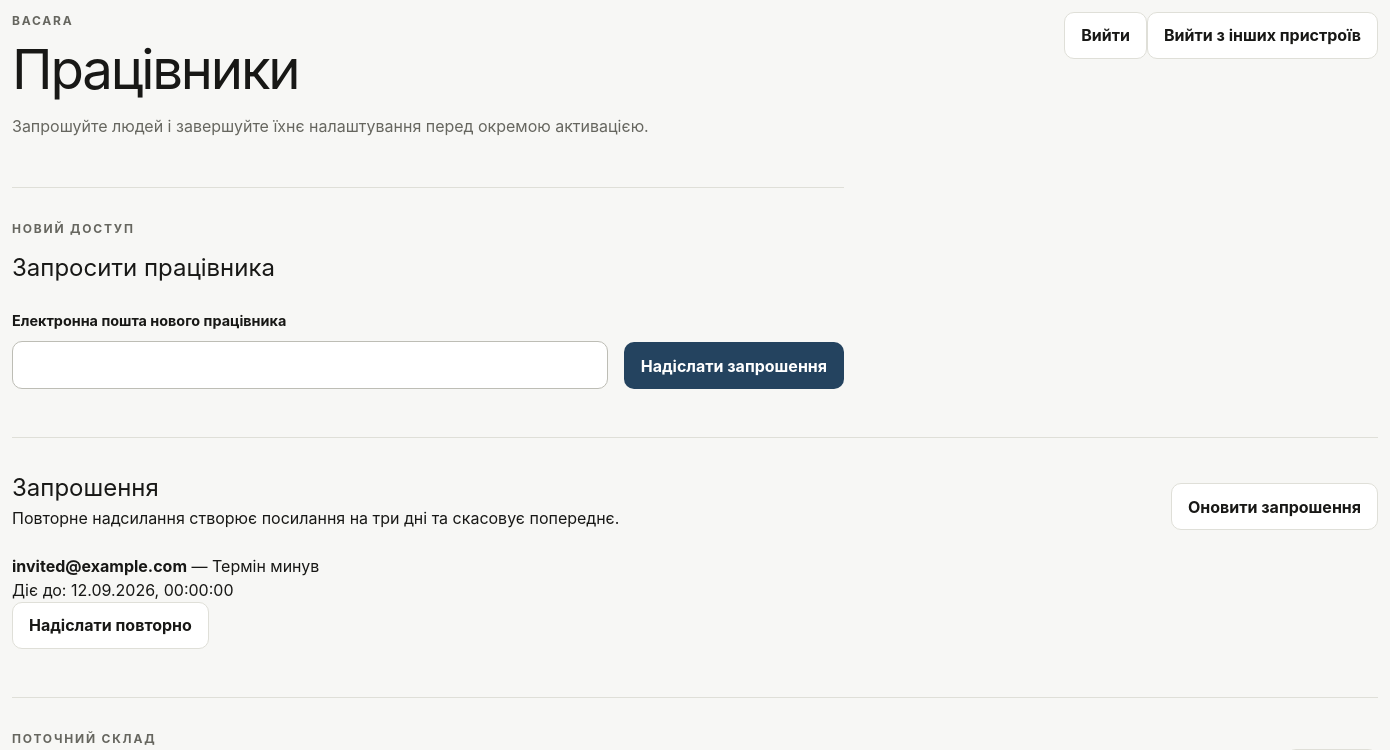
Test: reuses the idempotency key after an uncertain network failure
The width and height of the screenshot is (1390, 750).
Click the button "Надіслати повторно" at (110, 626), box [12,602,209,649]
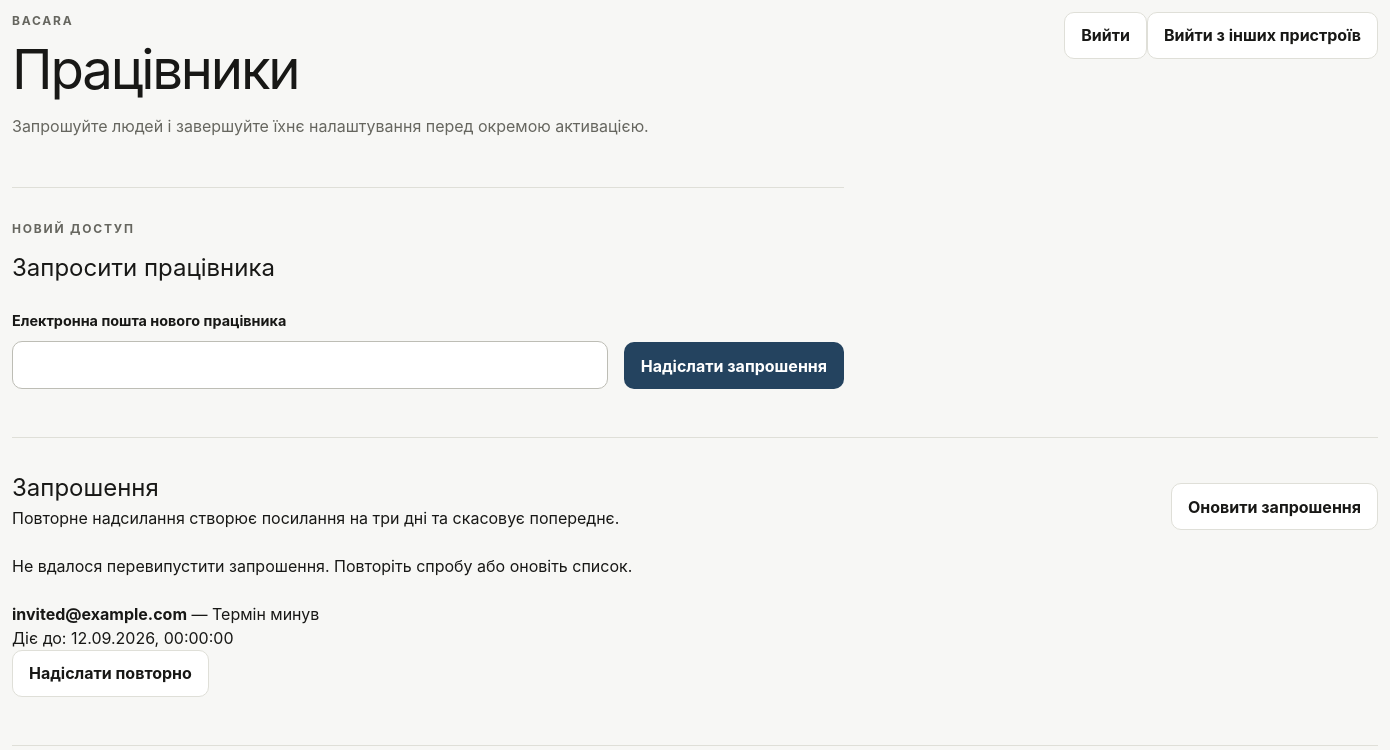
Check: the message "Не вдалося перевипустити запрошення. Повторіть спробу або оновіть список." is shown, box [12,556,632,576]
Click the button "Надіслати повторно" at (110, 674), box [12,650,209,697]
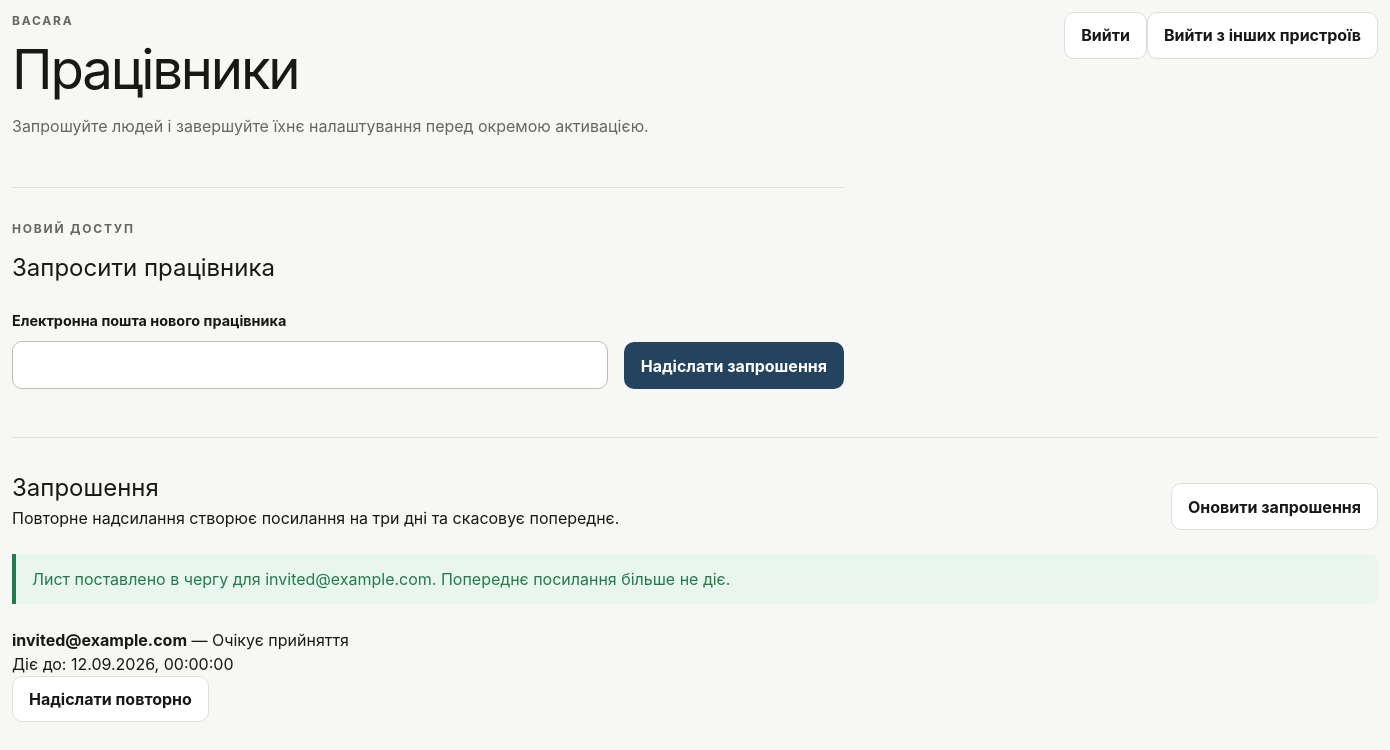
Check: the text "Лист поставлено в чергу" is shown, box [32,569,730,589]
